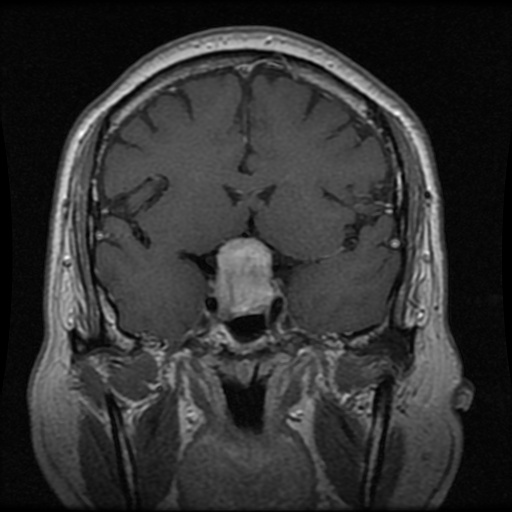pituitary: (217, 236, 274, 315)
